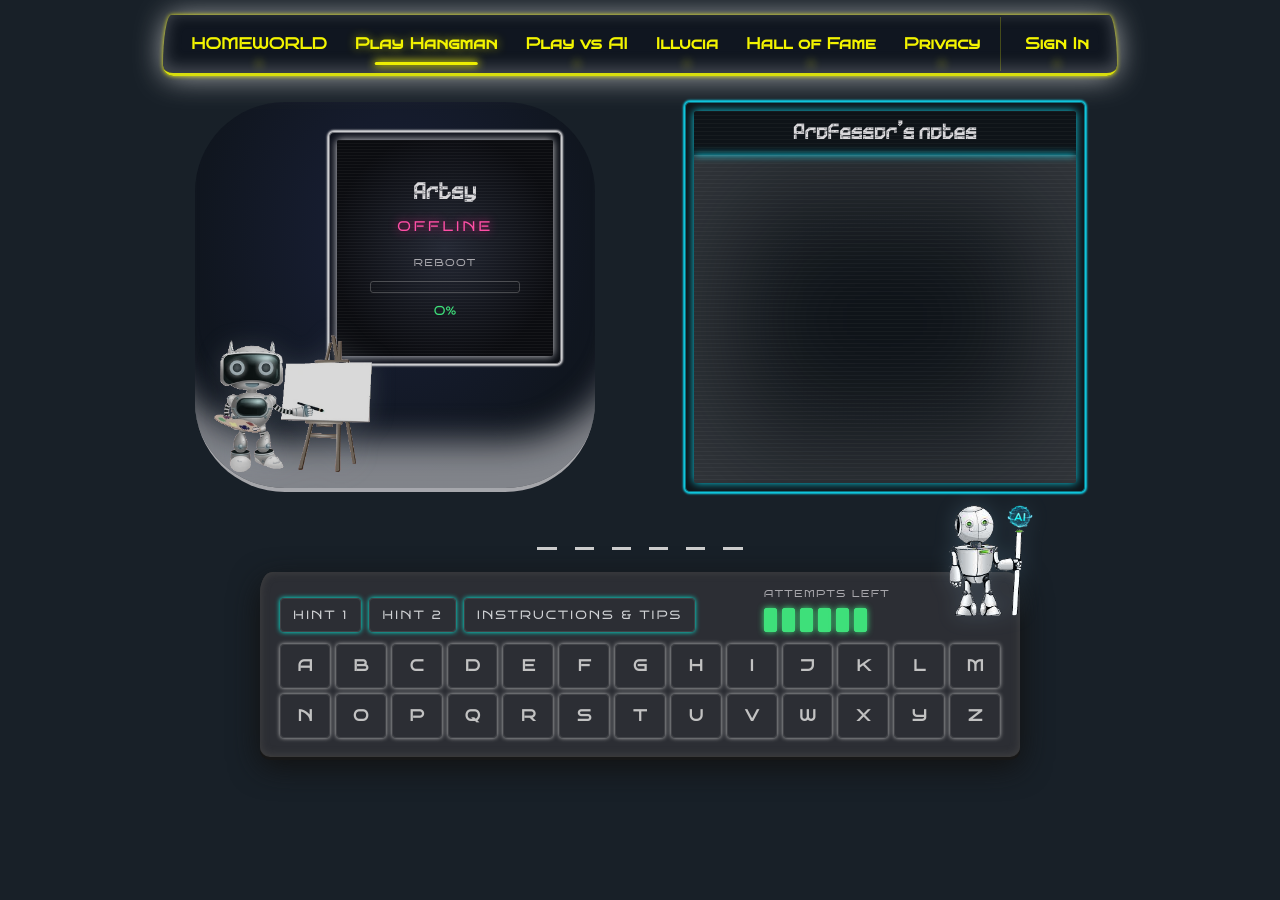
Test: /hangman game rules › ends in a loss on the sixth miss: word revealed, keyboard locked, word facts shown
Click the button "a" at (305, 666), box [280,644,330,688]
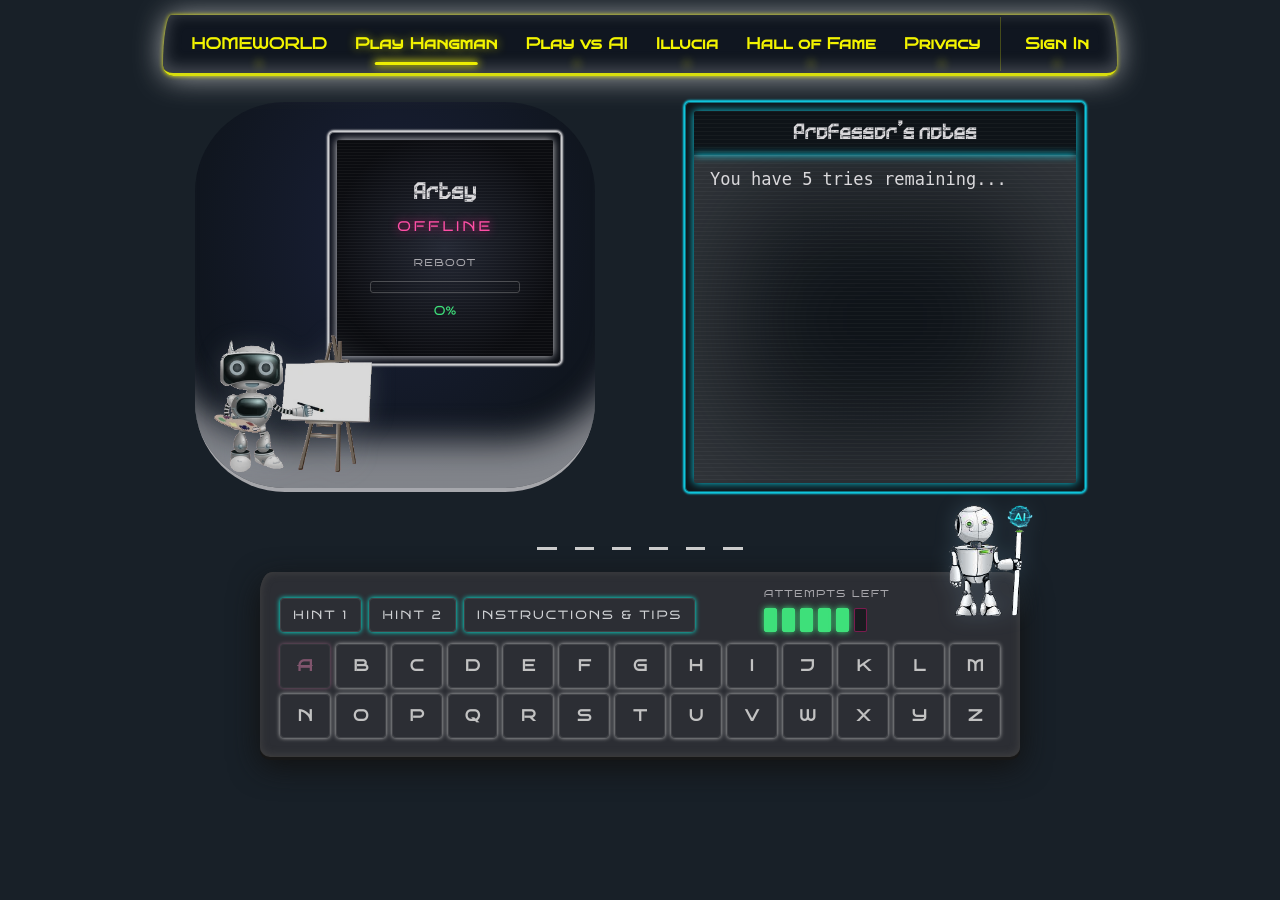
Click the button "b" at (361, 666), box [336,644,386,688]
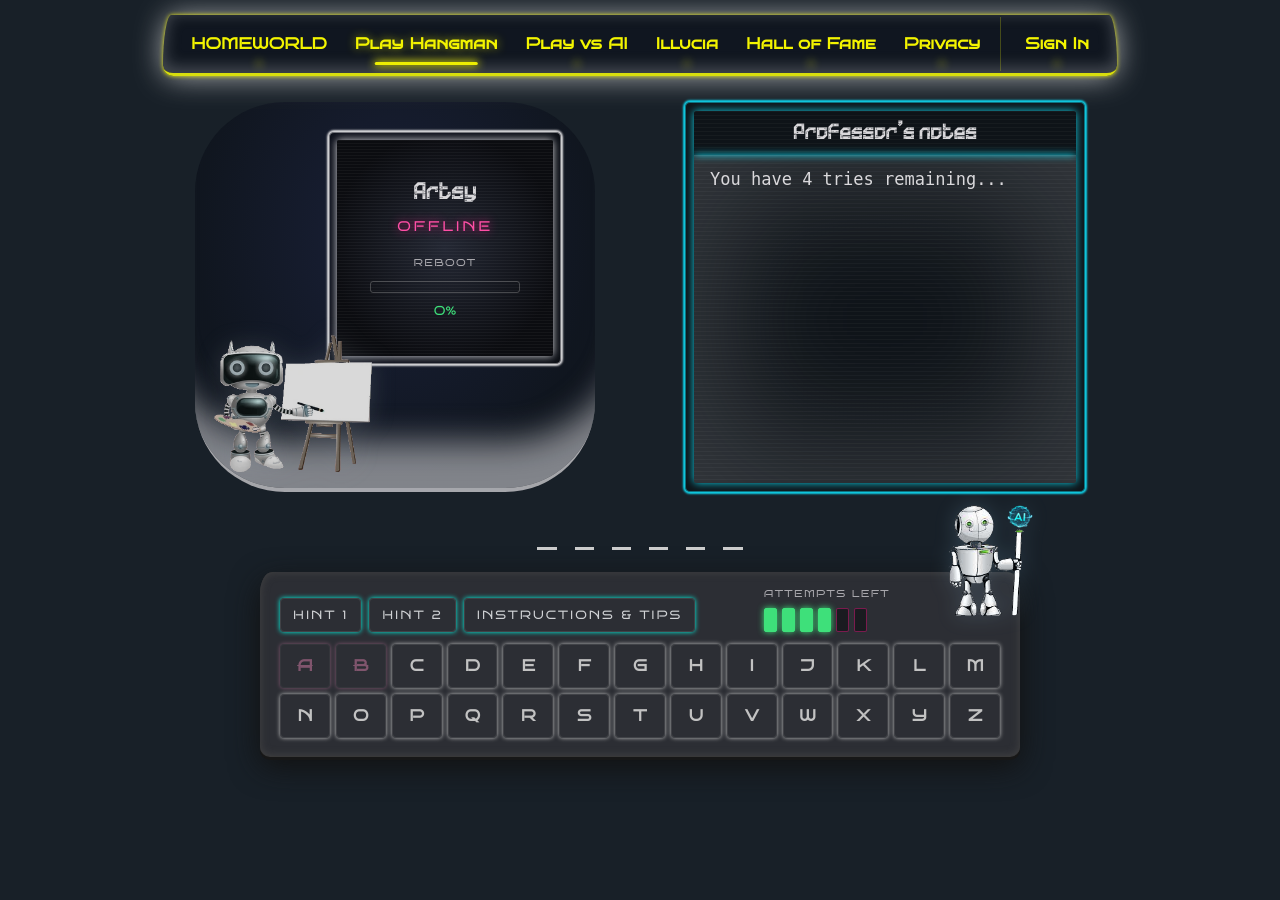
Click the button "c" at (417, 666), box [392,644,442,688]
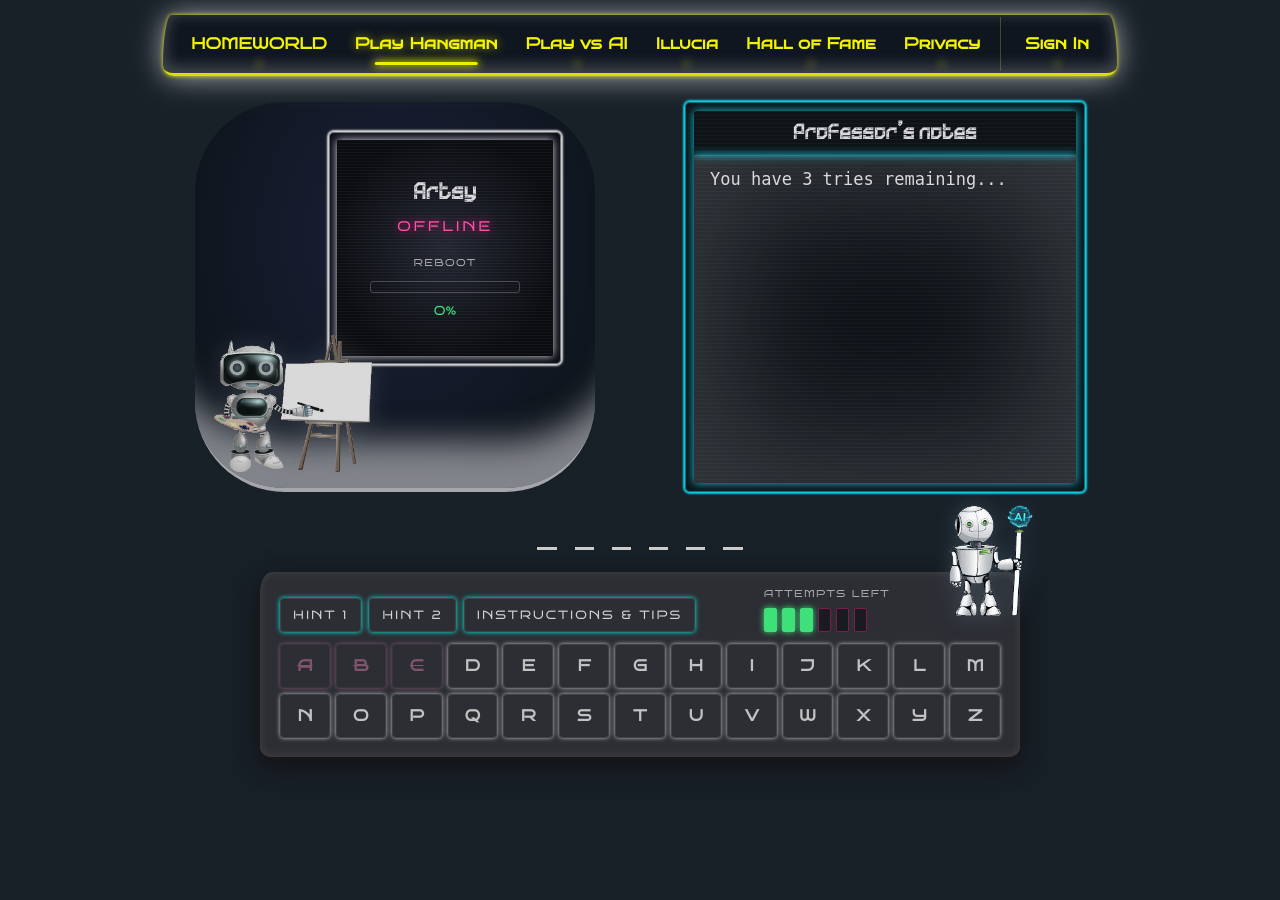
Click the button "d" at (472, 666), box [448,644,497,688]
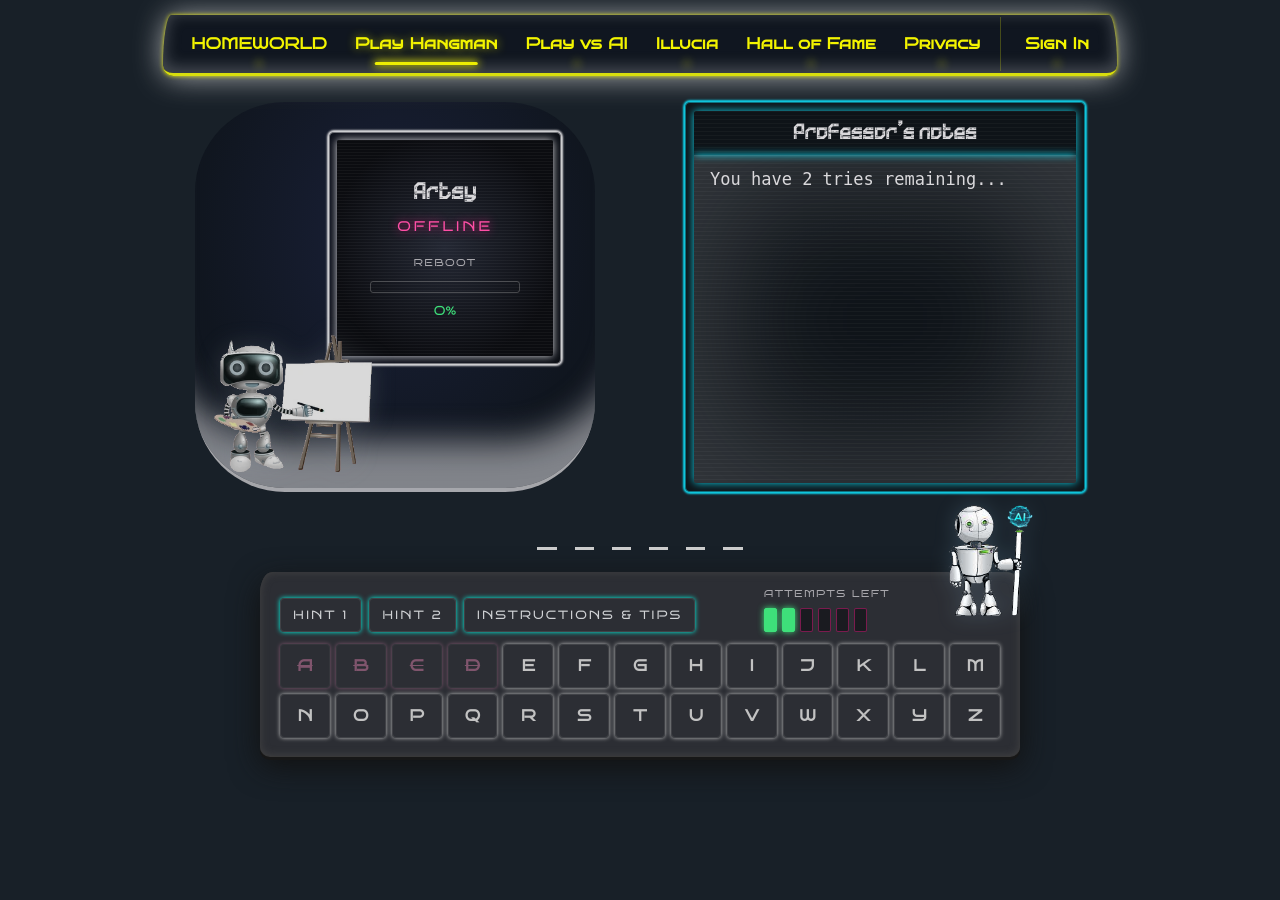
Click the button "f" at (584, 666), box [559,644,609,688]
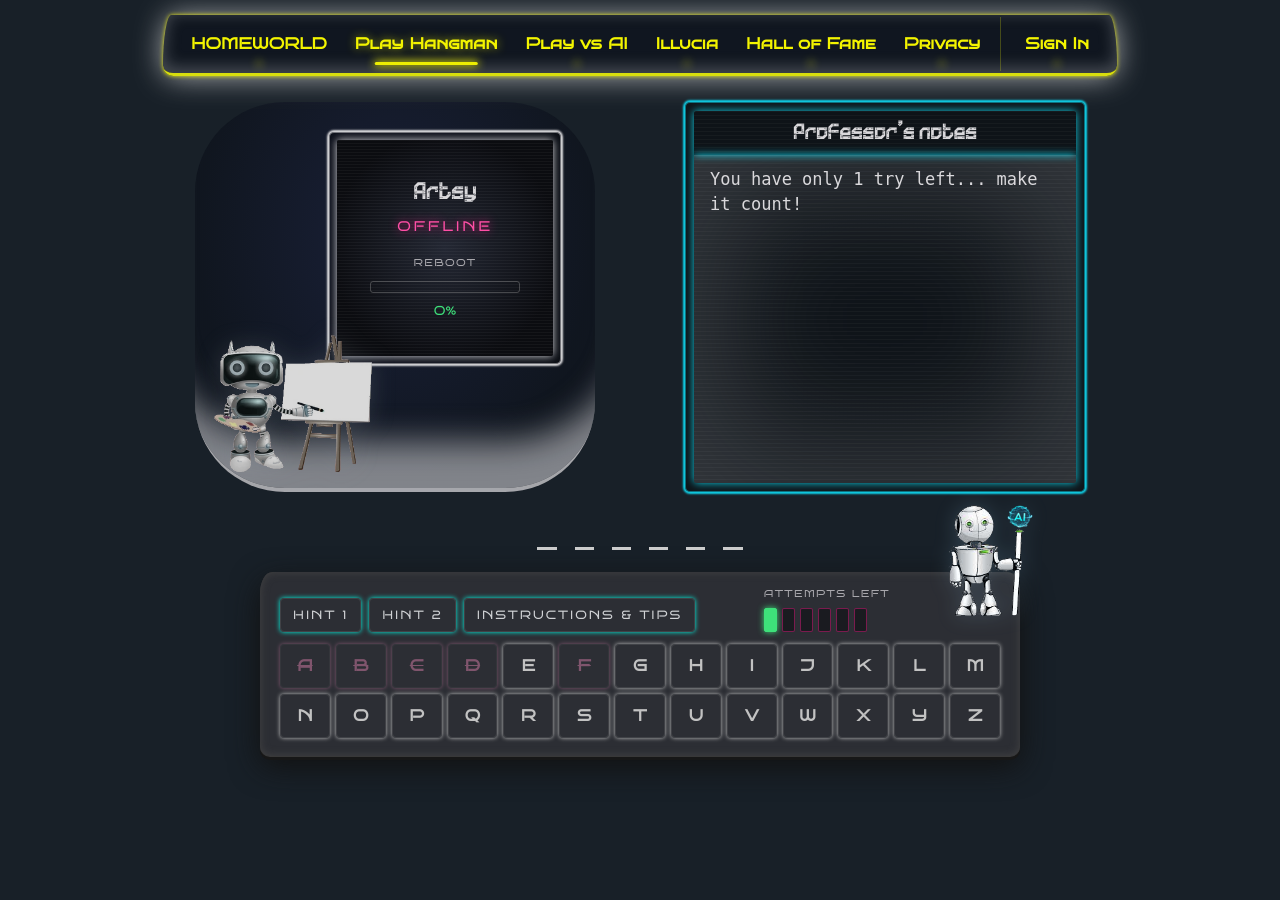
Click the button "g" at (640, 666), box [615,644,665,688]
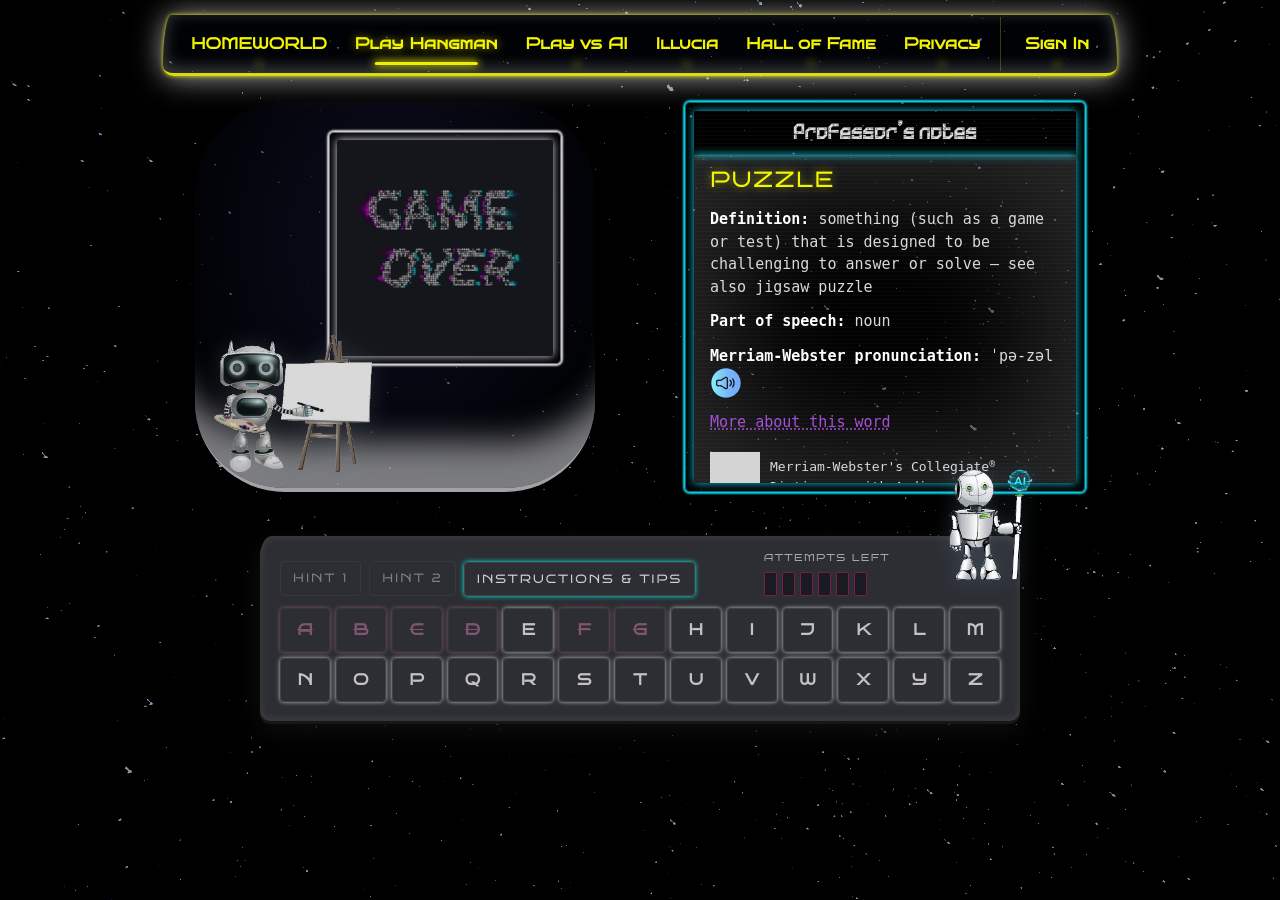
Now the button "p" is disabled, box [392,658,442,702]
